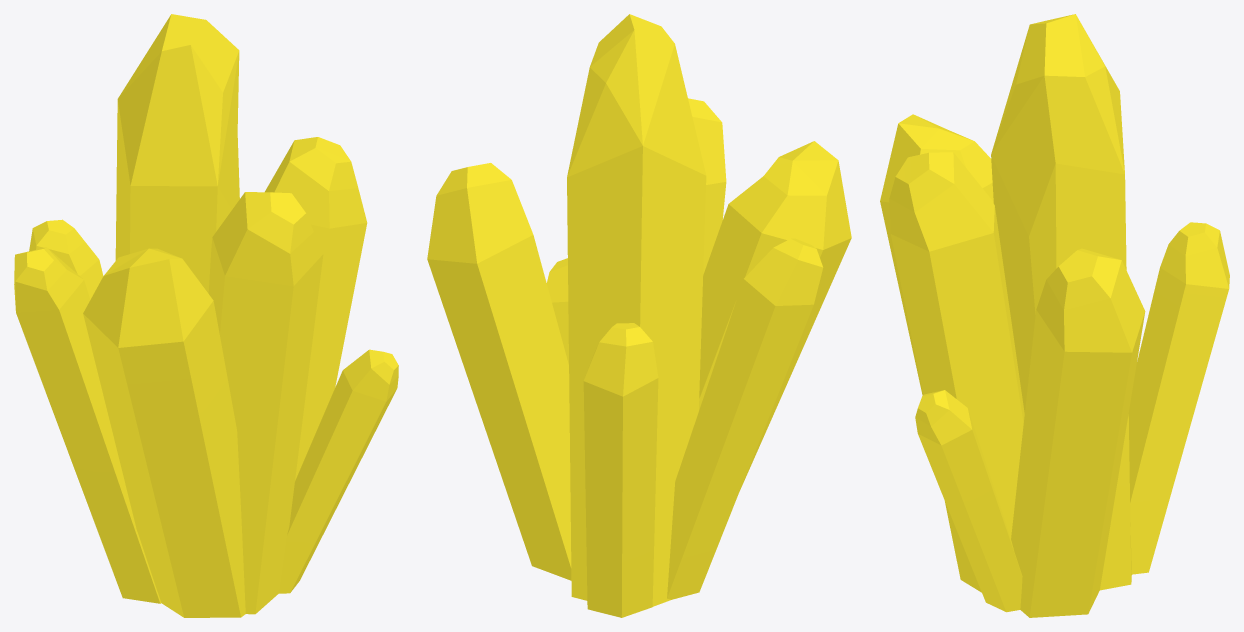
The model's file is mining_PP_Crystal_Cluster_04_Gold.gltf.
3 views of the same model, side by side, from view 1: azimuth 30°, elevation 25°; view 2: azimuth 150°, elevation 25°; view 3: azimuth 270°, elevation 25° (orthographic).
Visible parts, largest first — view 1: PP_Crystal_Cluster_04_Gold; view 2: PP_Crystal_Cluster_04_Gold; view 3: PP_Crystal_Cluster_04_Gold.
Part boxes in pixels (<box>): PP_Crystal_Cluster_04_Gold: <box>14,14,398,617</box>; PP_Crystal_Cluster_04_Gold: <box>427,14,851,617</box>; PP_Crystal_Cluster_04_Gold: <box>880,14,1229,617</box>.
Bounding box in the file's own units: 0.3712 × 0.5491 × 0.3145.
1 material, 1 textured.
